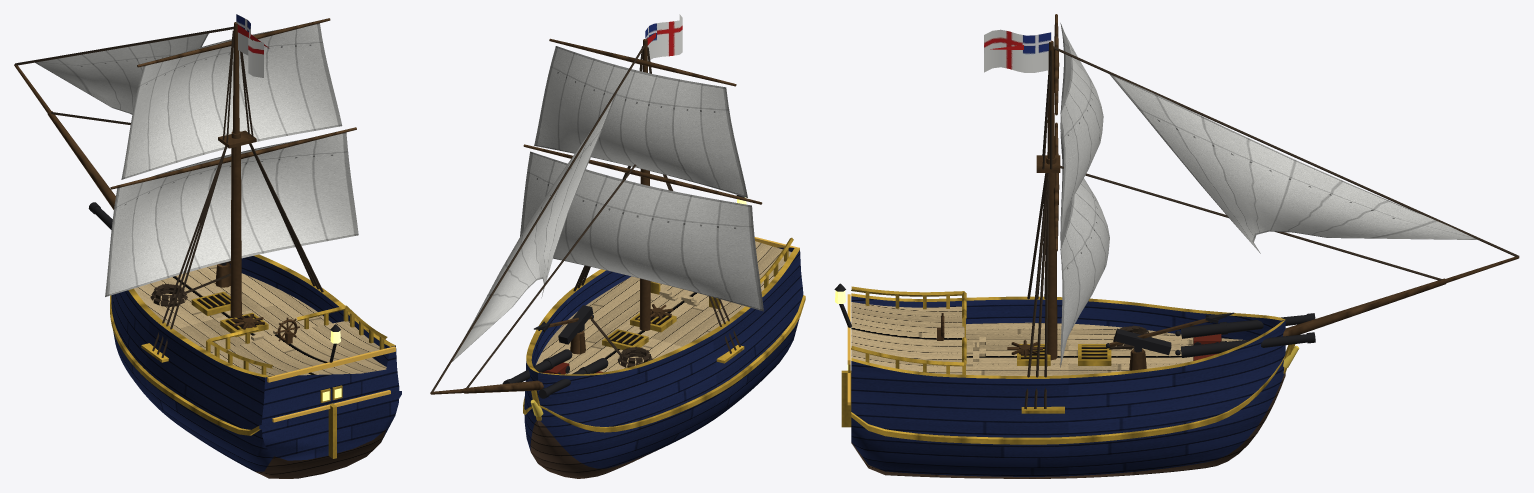
Rendered from navy_chaser.glb.
3 views of the same model, side by side, from view 1: azimuth 30°, elevation 25°; view 2: azimuth 150°, elevation 25°; view 3: azimuth 270°, elevation 25° (orthographic). The views are drawn at different scales.
Visible parts, largest first — view 1: Hull, Sail0_0, Sail0_1, Rigging, Jib, Flag; view 2: Hull, Sail0_0, Sail0_1, Jib, Rigging, Guns0, Flag; view 3: Hull, Jib, Rigging, Sail0_0, Sail0_1, Guns0, Flag.
Boxes of the visible parts, x1=… form: Hull: x1=110, y1=254, x2=401, y2=478; Sail0_0: x1=105, y1=132, x2=358, y2=296; Sail0_1: x1=121, y1=23, x2=342, y2=179; Rigging: x1=14, y1=18, x2=356, y2=357; Jib: x1=35, y1=33, x2=208, y2=114; Flag: x1=236, y1=14, x2=263, y2=77; Hull: x1=523, y1=195, x2=805, y2=478; Sail0_0: x1=520, y1=151, x2=763, y2=311; Sail0_1: x1=534, y1=46, x2=747, y2=197; Jib: x1=452, y1=93, x2=616, y2=361; Rigging: x1=430, y1=32, x2=762, y2=394; Guns0: x1=502, y1=349, x2=608, y2=398; Flag: x1=645, y1=14, x2=682, y2=60; Hull: x1=834, y1=283, x2=1299, y2=478; Jib: x1=1109, y1=74, x2=1477, y2=253; Rigging: x1=990, y1=14, x2=1519, y2=409; Sail0_0: x1=1060, y1=131, x2=1109, y2=367; Sail0_1: x1=1060, y1=23, x2=1103, y2=239; Guns0: x1=1175, y1=313, x2=1315, y2=360; Flag: x1=984, y1=29, x2=1051, y2=72.
Size of the model in its own units: 1.18 by 1.79 by 2.6.
Materials: 17 (8 with a texture image).
